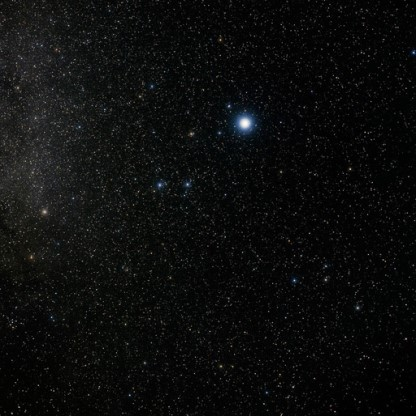Lyra: (234, 110, 261, 135), (213, 122, 227, 144), (184, 125, 198, 145), (154, 175, 167, 195), (182, 175, 193, 196), (223, 94, 235, 112)
